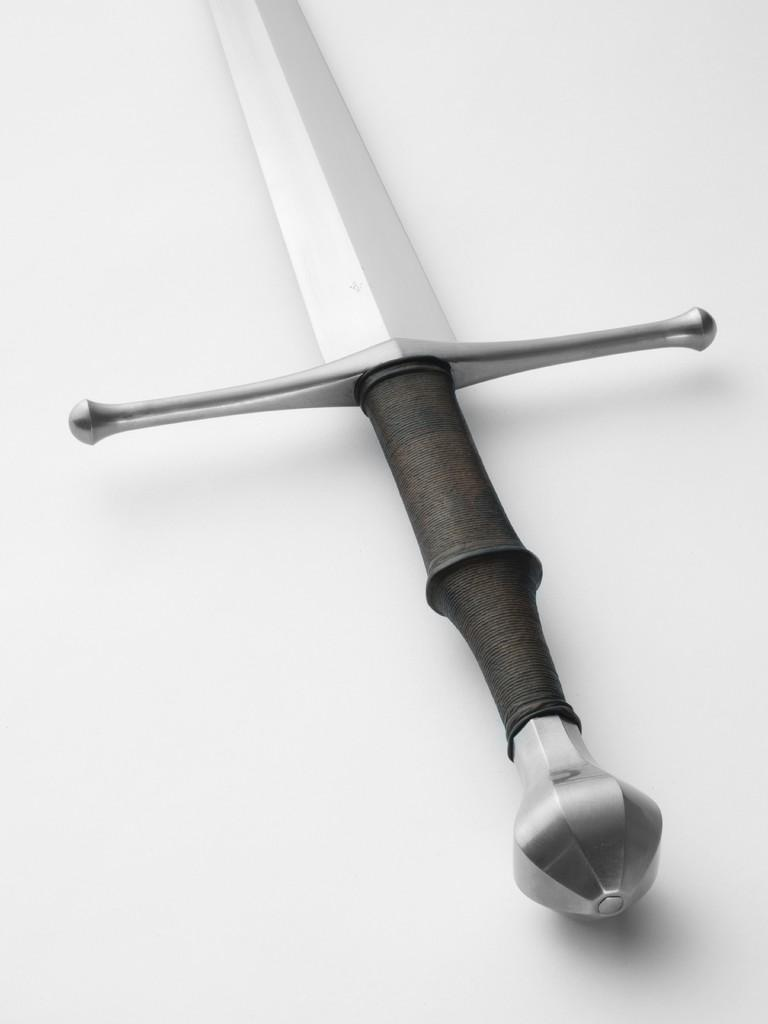Sword: (66, 0, 714, 921)
